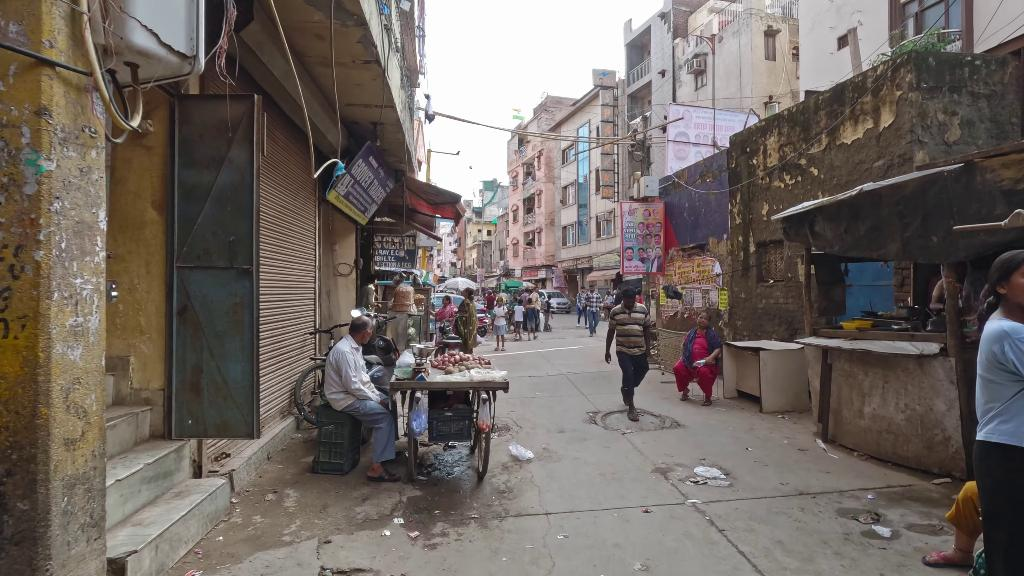garbage: (410, 394, 428, 440), (478, 393, 492, 432), (693, 465, 726, 481), (509, 441, 535, 461), (871, 524, 893, 539)
